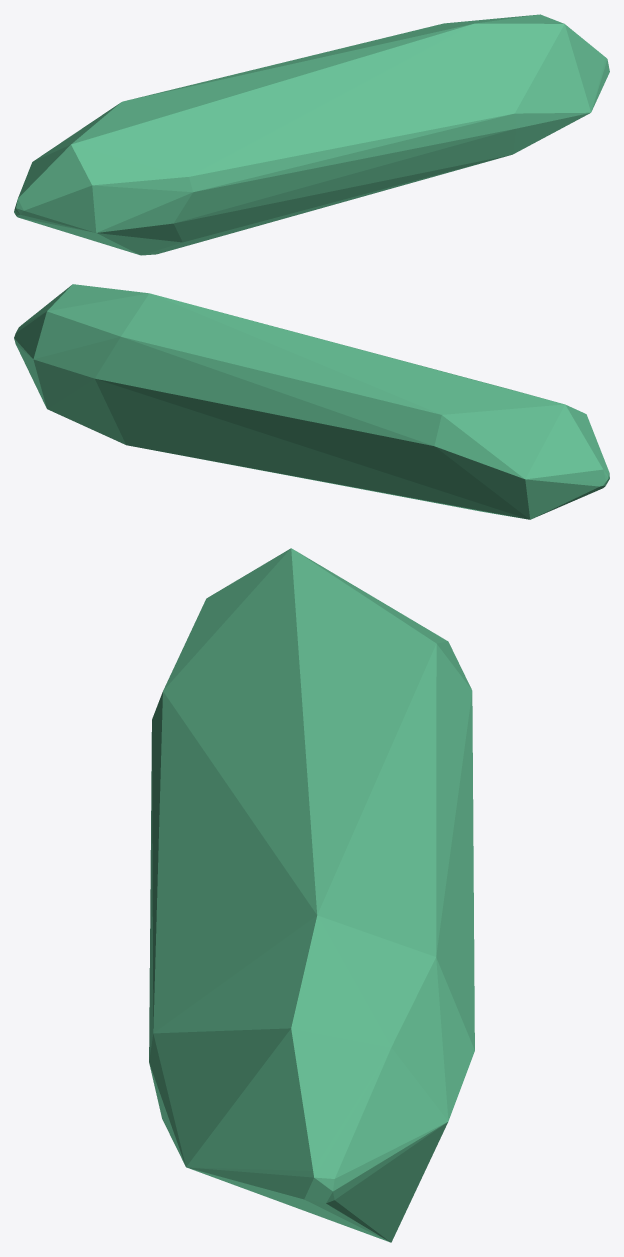
The model's file is consumable_lightBulb_c5w_a01.glb.
The picture shows the model from 3 angles, top to bottom: view 1: azimuth 30°, elevation 25°; view 2: azimuth 150°, elevation 25°; view 3: azimuth 270°, elevation 25°; orthographic projection. The views are drawn at different scales.
Parts seen in each view (by area): view 1: geometry_0; view 2: geometry_0; view 3: geometry_0.
Part boxes in pixels (<box>): geometry_0: <box>14,14,609,255</box>; geometry_0: <box>14,284,609,519</box>; geometry_0: <box>149,548,474,1242</box>.
Size of the model in its own units: 0.4786 by 0.1124 by 0.1144.
